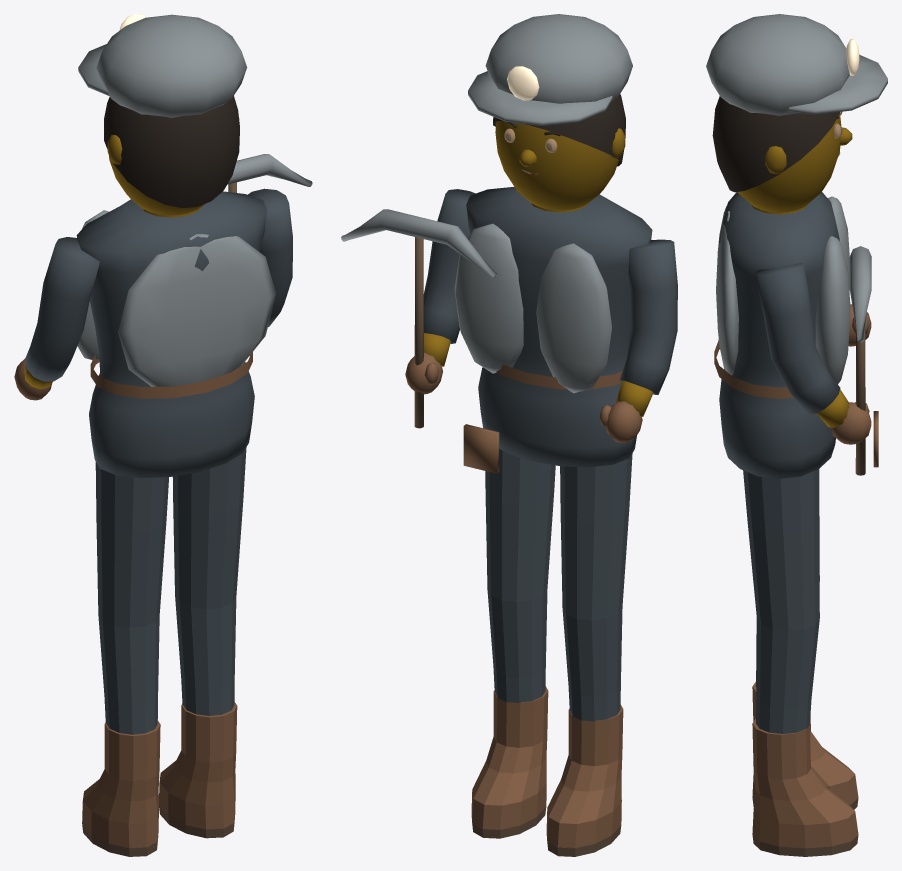
Rendered from SM_NPC_GLACIAR.glb.
The picture shows the model from 3 angles, left to right: view 1: azimuth 30°, elevation 25°; view 2: azimuth 150°, elevation 25°; view 3: azimuth 270°, elevation 25°; orthographic projection. The views are drawn at different scales.
Visible parts, largest first — view 1: SM_NPC_GLACIAR_BODY, SM_NPC_GLACIAR_LEG_L, SM_NPC_GLACIAR_HAIR, SM_NPC_GLACIAR_LEG_R, SM_NPC_GLACIAR_ARM_L, SM_NPC_GLACIAR_ARM_R, SM_NPC_GLACIAR_HEAD; view 2: SM_NPC_GLACIAR_BODY, SM_NPC_GLACIAR_LEG_L, SM_NPC_GLACIAR_LEG_R, SM_NPC_GLACIAR_HAIR, SM_NPC_GLACIAR_ARM_R, SM_NPC_GLACIAR_ARM_L, SM_NPC_GLACIAR_HEAD; view 3: SM_NPC_GLACIAR_BODY, SM_NPC_GLACIAR_LEG_R, SM_NPC_GLACIAR_HAIR, SM_NPC_GLACIAR_ARM_R, SM_NPC_GLACIAR_HEAD, SM_NPC_GLACIAR_LEG_L, SM_NPC_GLACIAR_ARM_L.
Boxes of the visible parts, <box> form: SM_NPC_GLACIAR_BODY: <box>76,191,275,477</box>; SM_NPC_GLACIAR_LEG_L: <box>82,461,168,856</box>; SM_NPC_GLACIAR_HAIR: <box>78,14,247,207</box>; SM_NPC_GLACIAR_LEG_R: <box>159,447,246,838</box>; SM_NPC_GLACIAR_ARM_L: <box>14,237,99,400</box>; SM_NPC_GLACIAR_ARM_R: <box>227,154,312,326</box>; SM_NPC_GLACIAR_HEAD: <box>107,118,239,215</box>; SM_NPC_GLACIAR_BODY: <box>454,187,652,473</box>; SM_NPC_GLACIAR_LEG_L: <box>546,453,632,856</box>; SM_NPC_GLACIAR_LEG_R: <box>471,449,555,838</box>; SM_NPC_GLACIAR_HAIR: <box>468,14,632,166</box>; SM_NPC_GLACIAR_ARM_R: <box>341,189,497,428</box>; SM_NPC_GLACIAR_ARM_L: <box>599,239,677,442</box>; SM_NPC_GLACIAR_HEAD: <box>495,121,625,210</box>; SM_NPC_GLACIAR_BODY: <box>714,192,878,478</box>; SM_NPC_GLACIAR_LEG_R: <box>743,469,858,856</box>; SM_NPC_GLACIAR_HAIR: <box>706,14,887,192</box>; SM_NPC_GLACIAR_ARM_R: <box>755,246,871,475</box>; SM_NPC_GLACIAR_HEAD: <box>737,114,852,212</box>; SM_NPC_GLACIAR_LEG_L: <box>752,469,858,809</box>; SM_NPC_GLACIAR_ARM_L: <box>848,304,871,346</box>.
Size of the model in its own units: 0.7367 by 1.87 by 0.3848.
